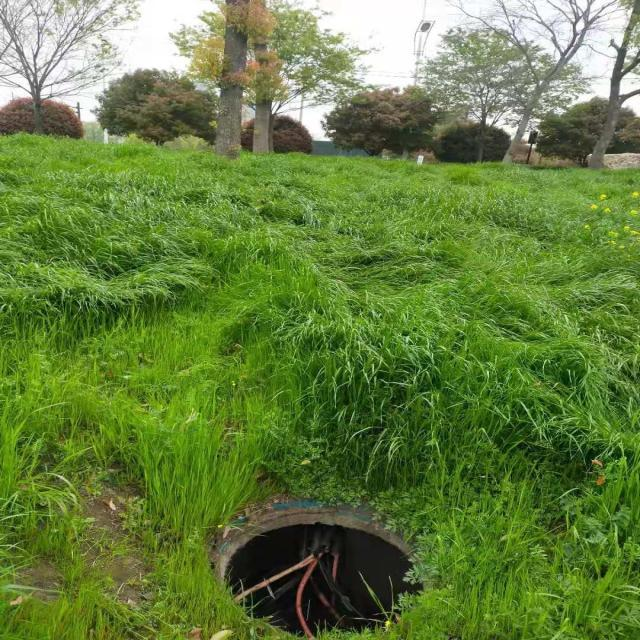Faulty: (202, 506, 428, 640)
